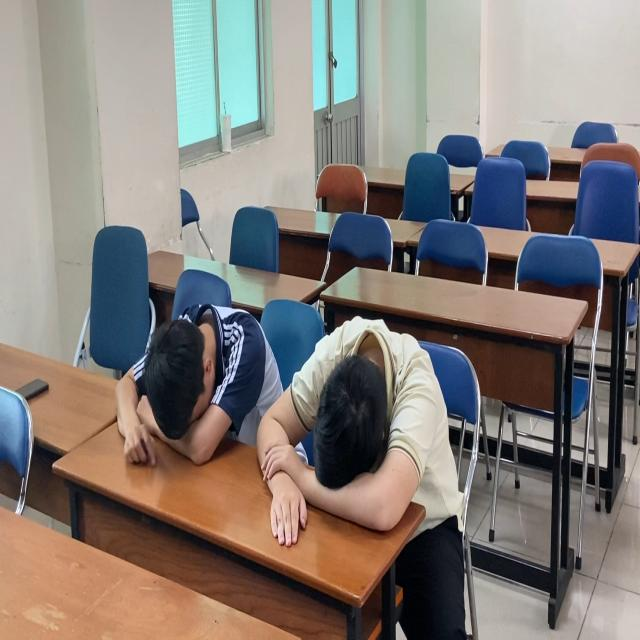sleep: (266, 313, 461, 519), (105, 283, 267, 472)
